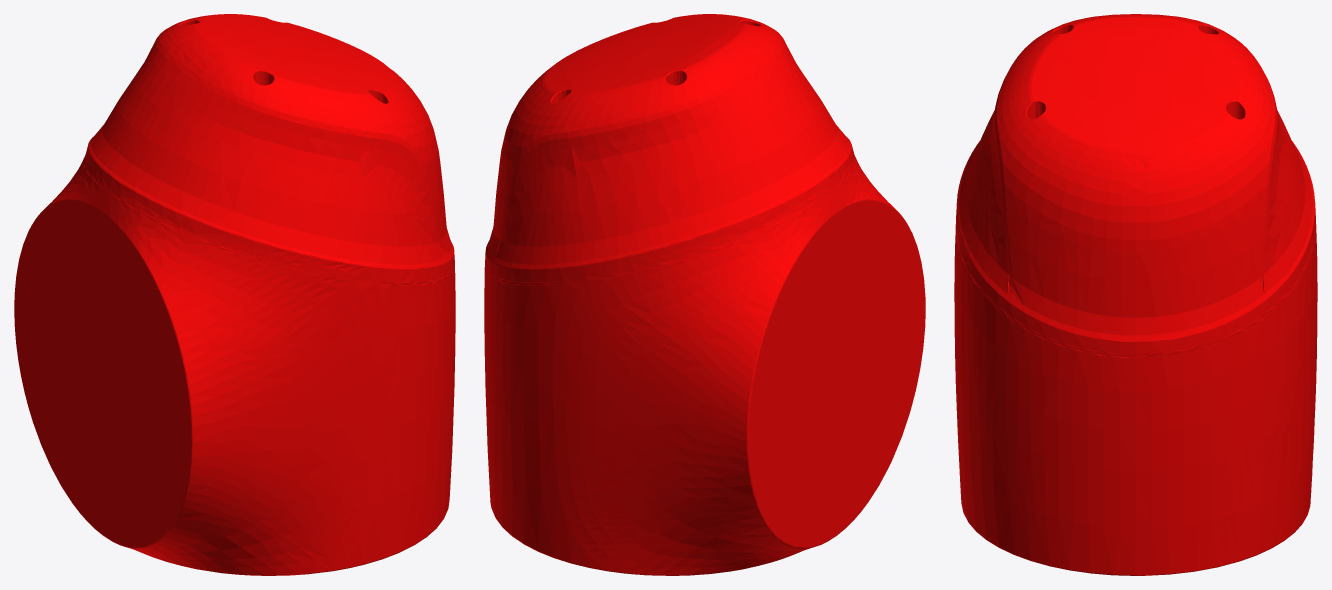
3 renders of one model, left to right at view 1: azimuth 30°, elevation 25°; view 2: azimuth 150°, elevation 25°; view 3: azimuth 270°, elevation 25°, orthographic. The views are drawn at different scales.
Parts seen in each view (by area): view 1: A0912_2_3; view 2: A0912_2_3; view 3: A0912_2_3.
Part boxes in pixels (x1=…): A0912_2_3: x1=14, y1=14, x2=455, y2=575; A0912_2_3: x1=484, y1=14, x2=925, y2=575; A0912_2_3: x1=954, y1=14, x2=1317, y2=575.
Bounding box in the file's own units: 125 × 122 × 170.
